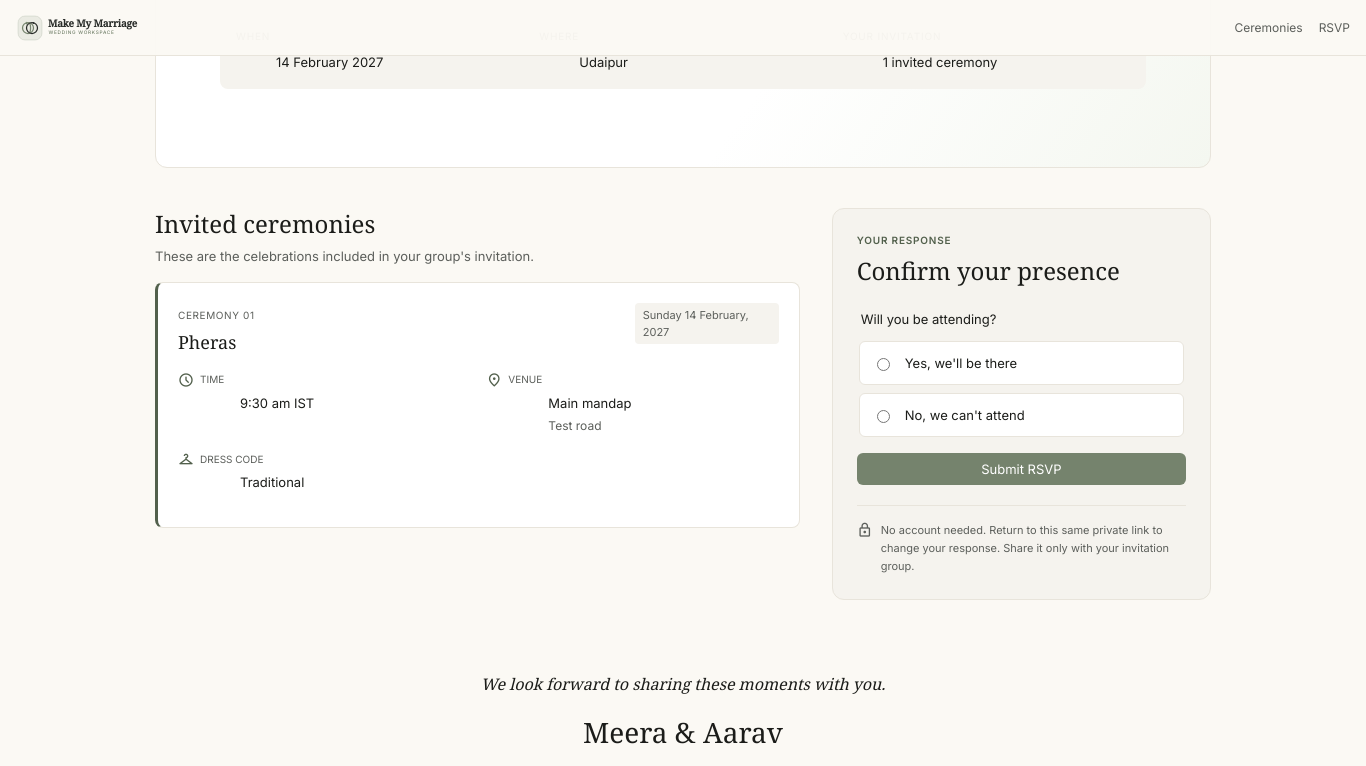
Test: public invitation and RSVP › uses Retry-After for too many submissions
(page scrolled)
Step 1. Click the radio button labelled "No, we can't attend" → (883, 417), box x1=877 y1=410 x2=890 y2=423
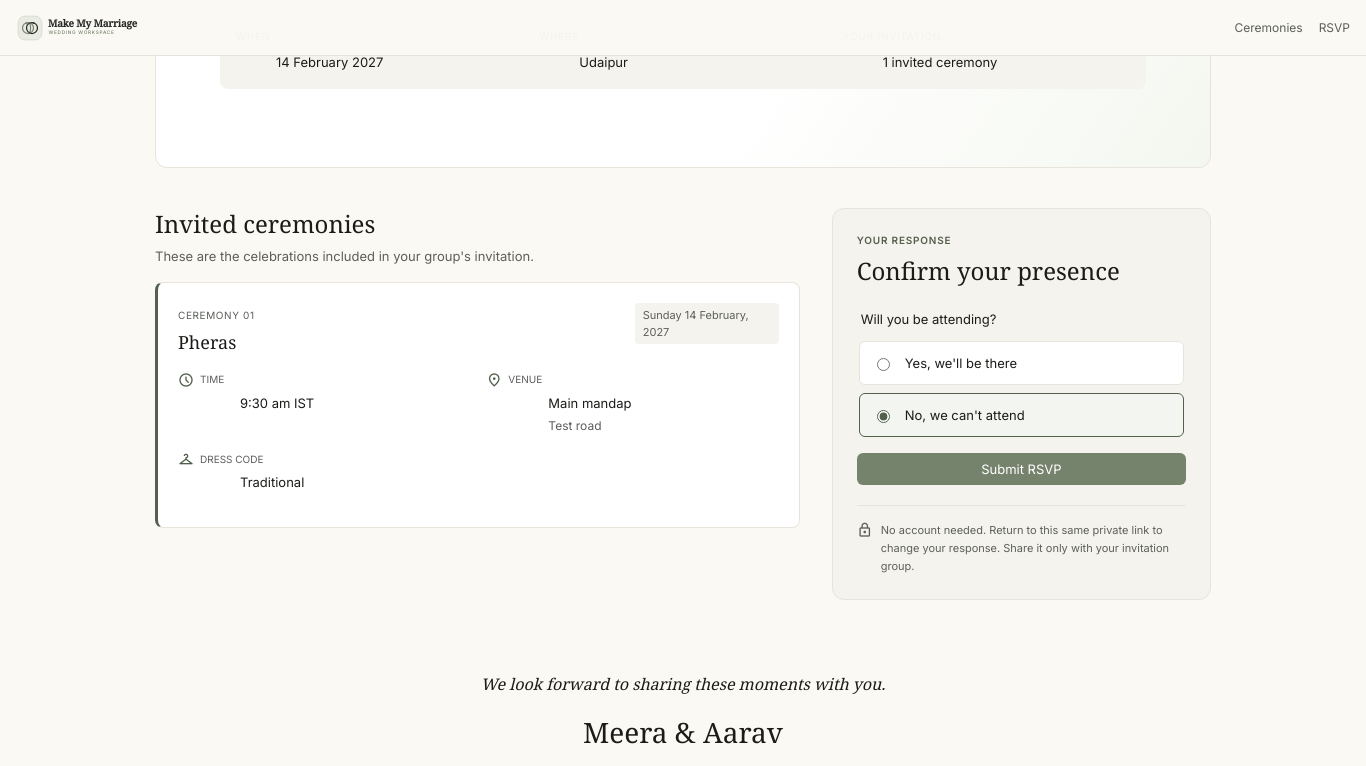
Step 2. Click the button "Submit RSVP" → (1021, 469), box x1=857 y1=453 x2=1186 y2=485
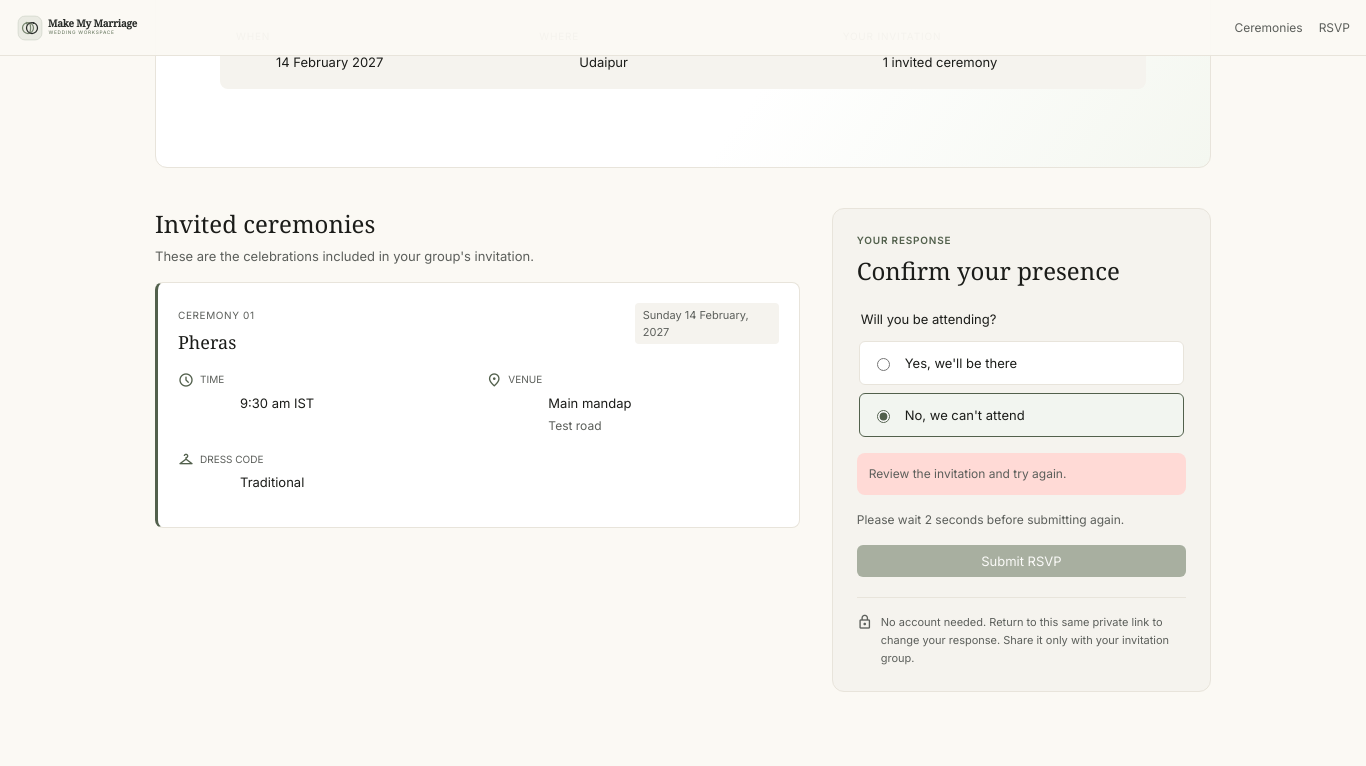
Expected: the text "Please wait 2 seconds before submitting again." is shown, x1=857 y1=512 x2=1124 y2=527
Expected: the button "Submit RSVP" is disabled, x1=857 y1=545 x2=1186 y2=577
